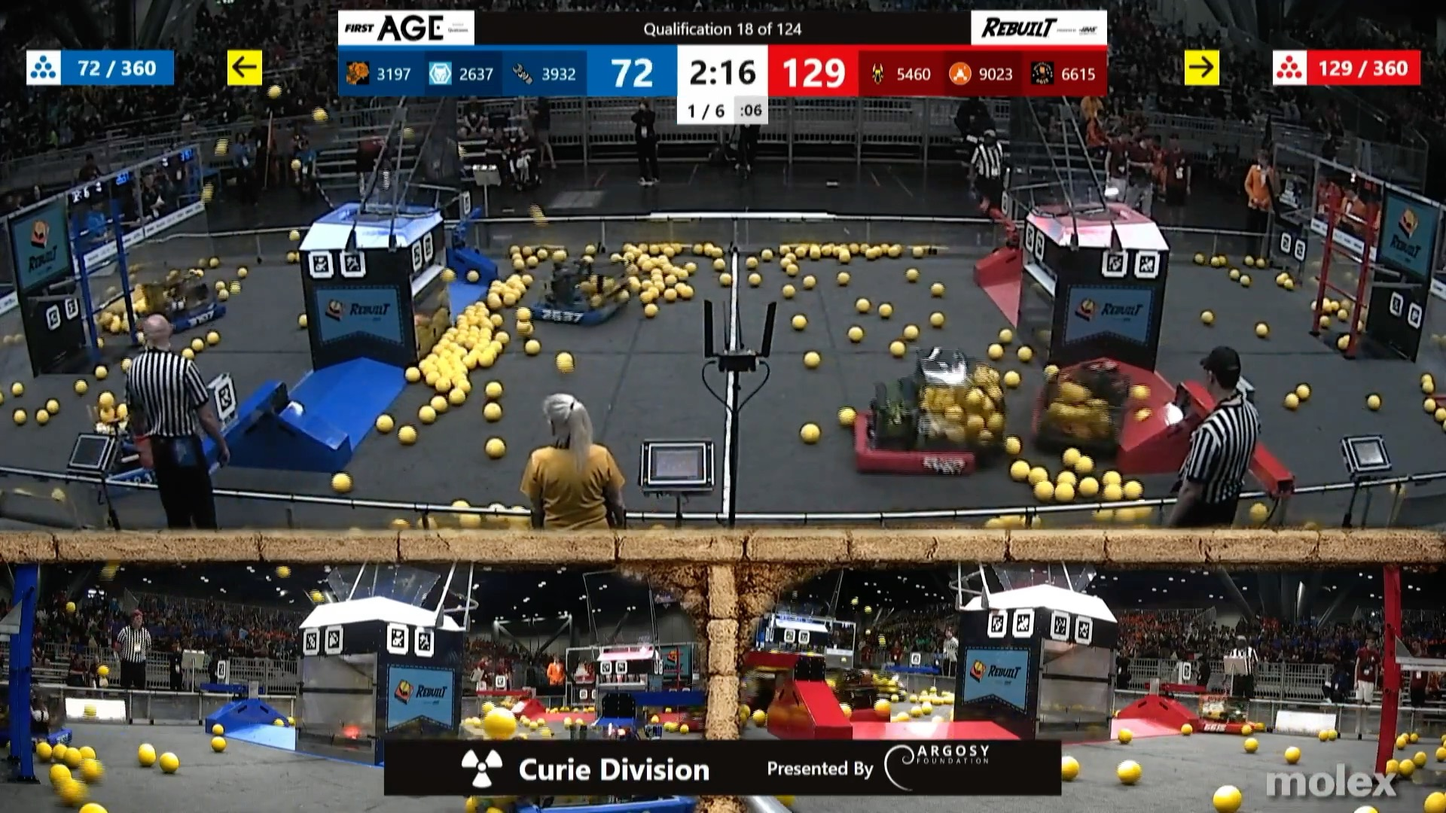bumpers: (845, 419, 983, 485), (1032, 391, 1117, 465), (122, 297, 237, 340), (517, 291, 627, 328)
